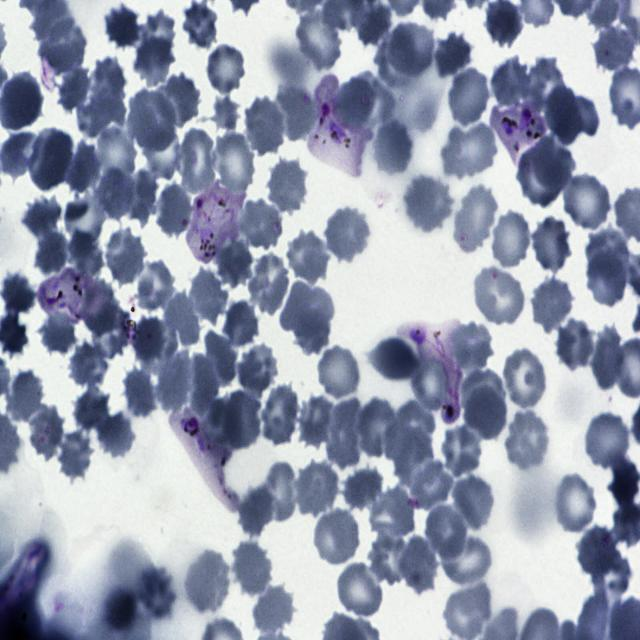red blood cell: (383, 400, 436, 461), (441, 122, 498, 177), (128, 89, 176, 152), (453, 185, 497, 252), (474, 267, 524, 325), (259, 382, 302, 447), (284, 228, 332, 286), (28, 129, 72, 192), (220, 389, 264, 452), (297, 9, 341, 71), (404, 176, 452, 232), (185, 551, 229, 612), (444, 583, 491, 640), (588, 324, 627, 392), (563, 174, 612, 228), (369, 487, 417, 542), (314, 508, 360, 565), (398, 534, 440, 596), (279, 282, 333, 330), (212, 132, 254, 193), (518, 148, 562, 206), (248, 254, 289, 316), (408, 458, 454, 513), (585, 413, 630, 469), (504, 349, 547, 407), (324, 208, 370, 262), (40, 17, 86, 71), (447, 68, 489, 127), (275, 82, 317, 141), (178, 130, 216, 195), (506, 412, 548, 470), (155, 349, 193, 413), (358, 398, 399, 457), (590, 550, 632, 607), (327, 398, 361, 468), (544, 84, 583, 145), (154, 182, 195, 240), (367, 532, 411, 586), (245, 96, 285, 155), (297, 460, 339, 516), (95, 126, 137, 182), (76, 89, 126, 136), (389, 23, 434, 75), (338, 564, 382, 617), (532, 216, 572, 274), (556, 474, 596, 532), (91, 306, 132, 362), (394, 429, 434, 486), (318, 344, 360, 398), (220, 299, 262, 353), (452, 476, 494, 530), (464, 386, 506, 440), (159, 73, 200, 128), (442, 537, 491, 583), (132, 36, 176, 87), (106, 228, 146, 284), (532, 278, 572, 334), (268, 158, 308, 214), (588, 250, 626, 308), (136, 9, 174, 67), (426, 504, 466, 559), (462, 370, 506, 420), (586, 227, 629, 278), (492, 211, 531, 267), (233, 542, 273, 596), (577, 527, 617, 581), (190, 268, 227, 326), (376, 28, 413, 86), (65, 192, 107, 243), (261, 461, 296, 522), (164, 291, 202, 347), (297, 396, 337, 449), (535, 136, 575, 189), (240, 200, 282, 250), (369, 339, 419, 381), (491, 56, 532, 107), (374, 120, 412, 175), (140, 320, 177, 376), (452, 322, 494, 371), (527, 58, 565, 112), (237, 344, 278, 394), (442, 426, 484, 474), (5, 369, 43, 422), (145, 120, 179, 179), (554, 317, 594, 367), (28, 405, 64, 460), (122, 365, 159, 418), (98, 165, 135, 218), (410, 360, 447, 413), (102, 2, 142, 51), (83, 278, 118, 334), (90, 59, 126, 113), (68, 340, 109, 387), (253, 587, 294, 634), (238, 485, 275, 537), (136, 260, 174, 310), (66, 228, 104, 278), (65, 140, 100, 194), (126, 168, 158, 227), (205, 327, 238, 384), (138, 565, 174, 617), (292, 304, 329, 354), (343, 467, 385, 511), (594, 25, 634, 71), (207, 46, 245, 94), (215, 241, 252, 289), (1, 269, 37, 318), (337, 78, 373, 127), (434, 32, 472, 78), (96, 412, 134, 458), (58, 430, 92, 480), (38, 312, 78, 354), (182, 1, 217, 49), (191, 352, 218, 414), (34, 228, 70, 274), (131, 315, 165, 363), (58, 64, 92, 112), (22, 197, 62, 237), (73, 390, 110, 431), (103, 589, 137, 630), (212, 96, 239, 131)
ring: (36, 268, 94, 323)
trophozoite: (170, 408, 238, 514), (309, 75, 371, 176), (402, 322, 461, 423), (186, 184, 246, 262), (492, 99, 548, 162)
